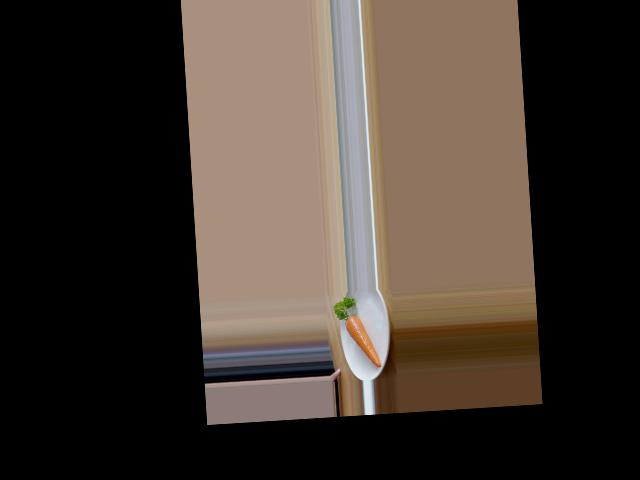carrot: (342, 308, 381, 372)
